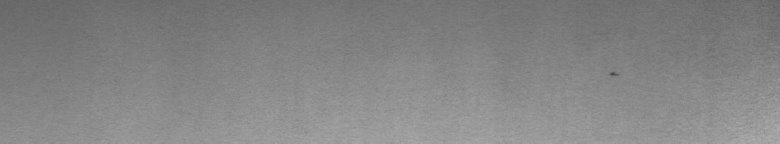fi: (609, 68, 620, 80)
